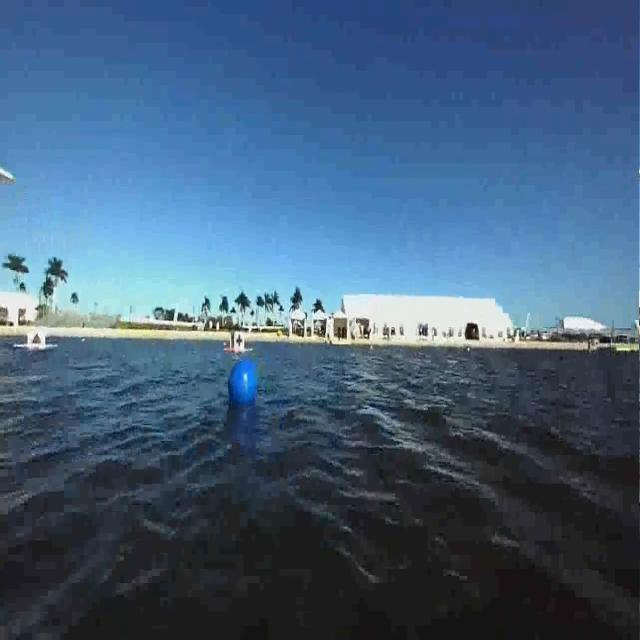blue-buoy: (225, 348, 262, 417)
